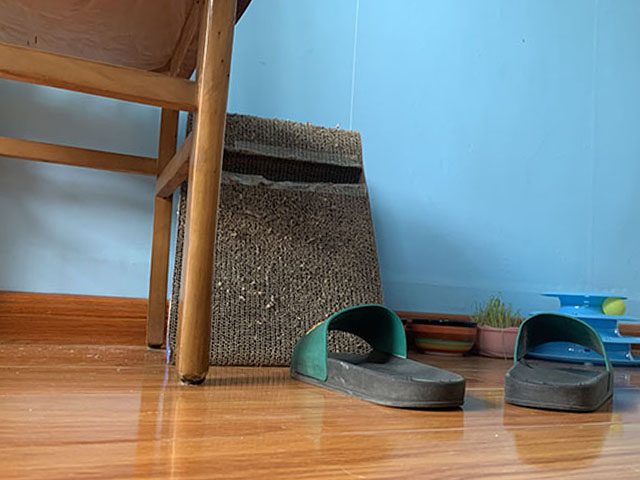slippers: (286, 298, 468, 411), (501, 310, 617, 414)
